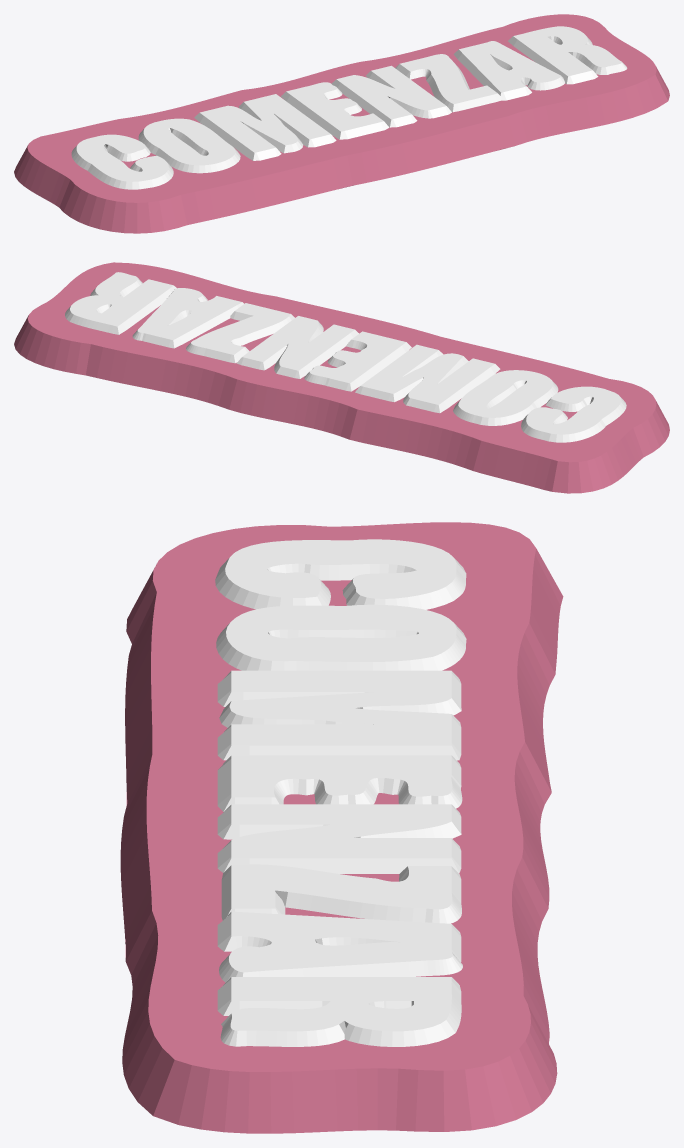
Rendered from start.fbx.
3 views of the same model, one above another, from view 1: azimuth 30°, elevation 25°; view 2: azimuth 150°, elevation 25°; view 3: azimuth 270°, elevation 25° (orthographic). The views are drawn at different scales.
Visible parts, largest first — view 1: comenzar; view 2: comenzar; view 3: comenzar.
Part boxes in pixels (x1,y1,x2,y2): comenzar: (14, 14, 669, 233); comenzar: (14, 262, 669, 493); comenzar: (120, 522, 563, 1133).
Size of the model in its own units: 1205 by 62.12 by 394.
